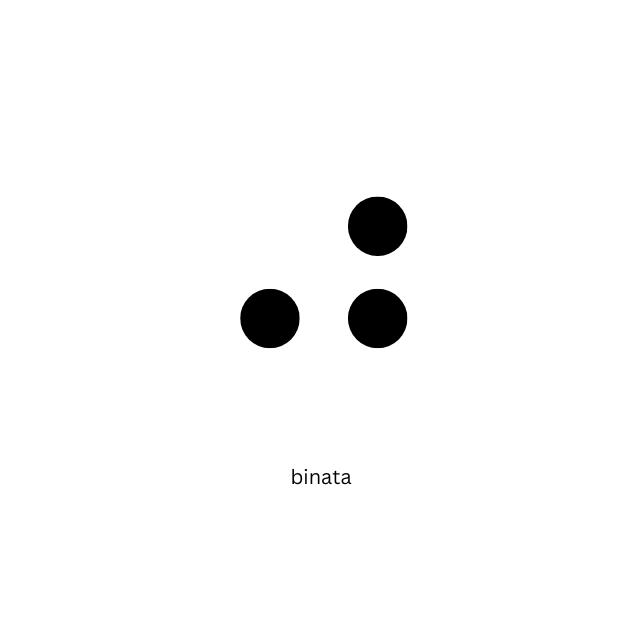dot_5: (153, 193, 301, 444)
two_cell_alphabet_binata: (347, 193, 494, 441)
